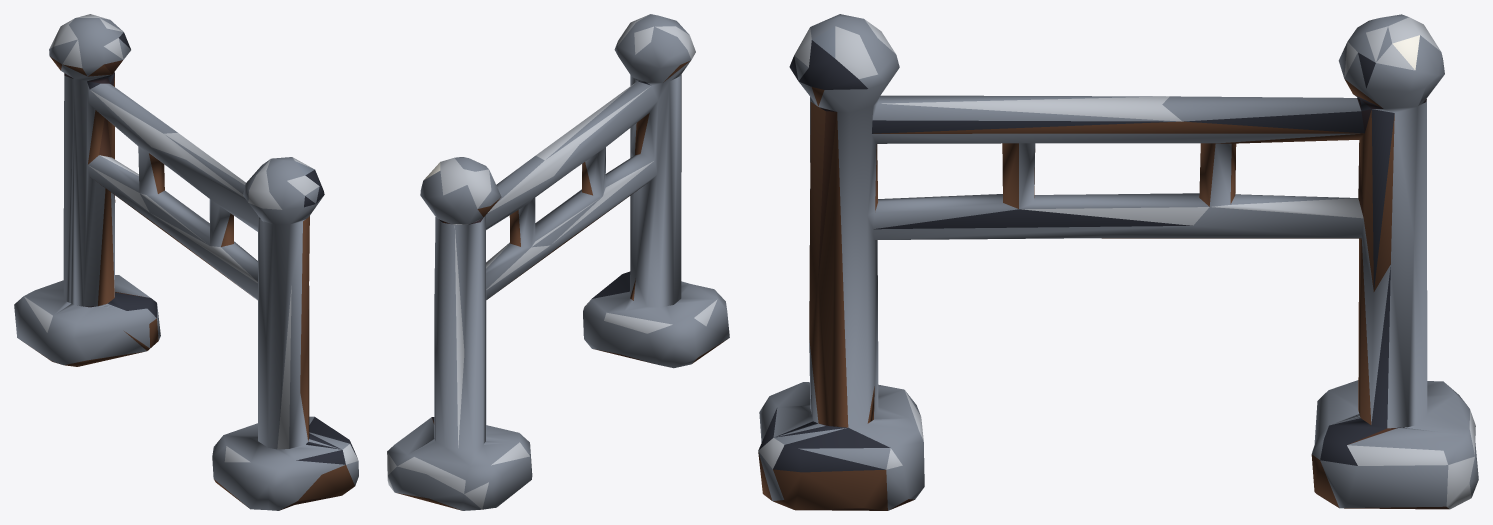
The model's file is SM_stanchion.fbx.
The picture shows the model from 3 angles, left to right: view 1: azimuth 30°, elevation 25°; view 2: azimuth 150°, elevation 25°; view 3: azimuth 270°, elevation 25°; orthographic projection. The views are drawn at different scales.
Parts seen in each view (by area): view 1: SM_stanchion; view 2: SM_stanchion; view 3: SM_stanchion.
Boxes of the visible parts, x1,y1,x2,y2 form: SM_stanchion: (14,14,358,510); SM_stanchion: (387,14,729,510); SM_stanchion: (758,14,1478,510).
Size of the model in its own units: 36.38 by 100 by 143.
Materials: 1 (1 with a texture image).
